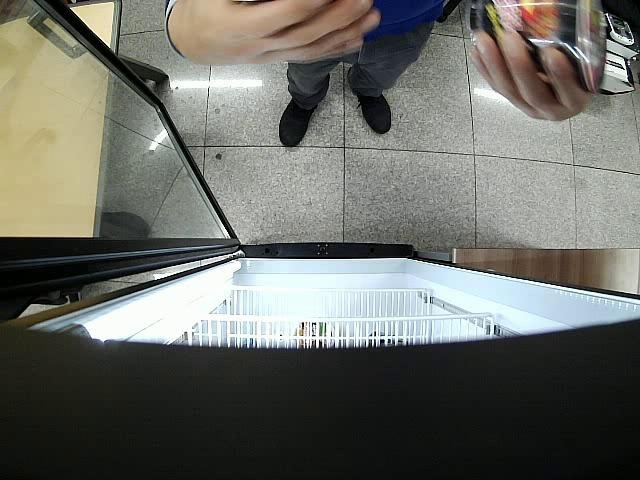08_buldak_S: (468, 0, 606, 93)
